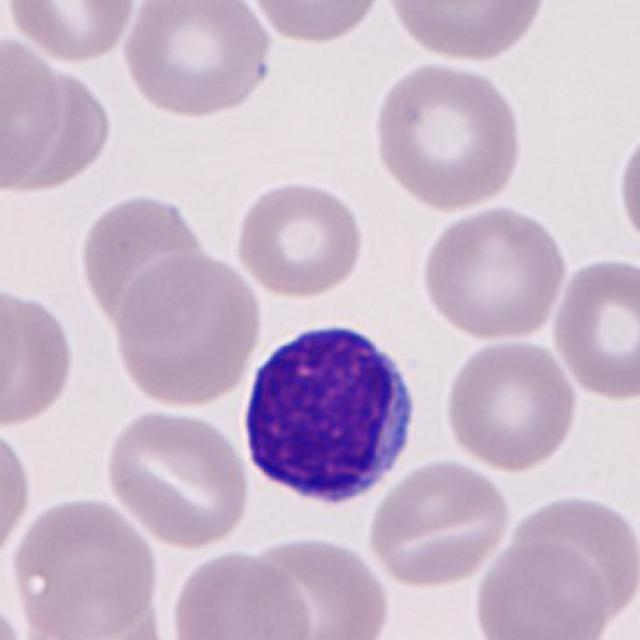Lymphocyte: (232, 312, 425, 514)
RBC: (110, 250, 266, 409), (369, 58, 528, 214), (7, 493, 164, 638), (102, 406, 254, 550), (418, 201, 570, 342), (364, 456, 514, 590), (75, 189, 210, 333), (440, 336, 580, 474), (119, 0, 276, 120), (505, 489, 640, 624), (231, 175, 367, 300), (240, 532, 395, 638), (5, 62, 117, 198), (470, 536, 610, 640), (548, 253, 638, 404), (168, 548, 315, 640), (0, 285, 79, 430), (380, 0, 554, 64), (0, 31, 66, 187), (3, 0, 140, 64), (241, 0, 390, 47), (0, 422, 35, 564), (614, 118, 640, 257)
